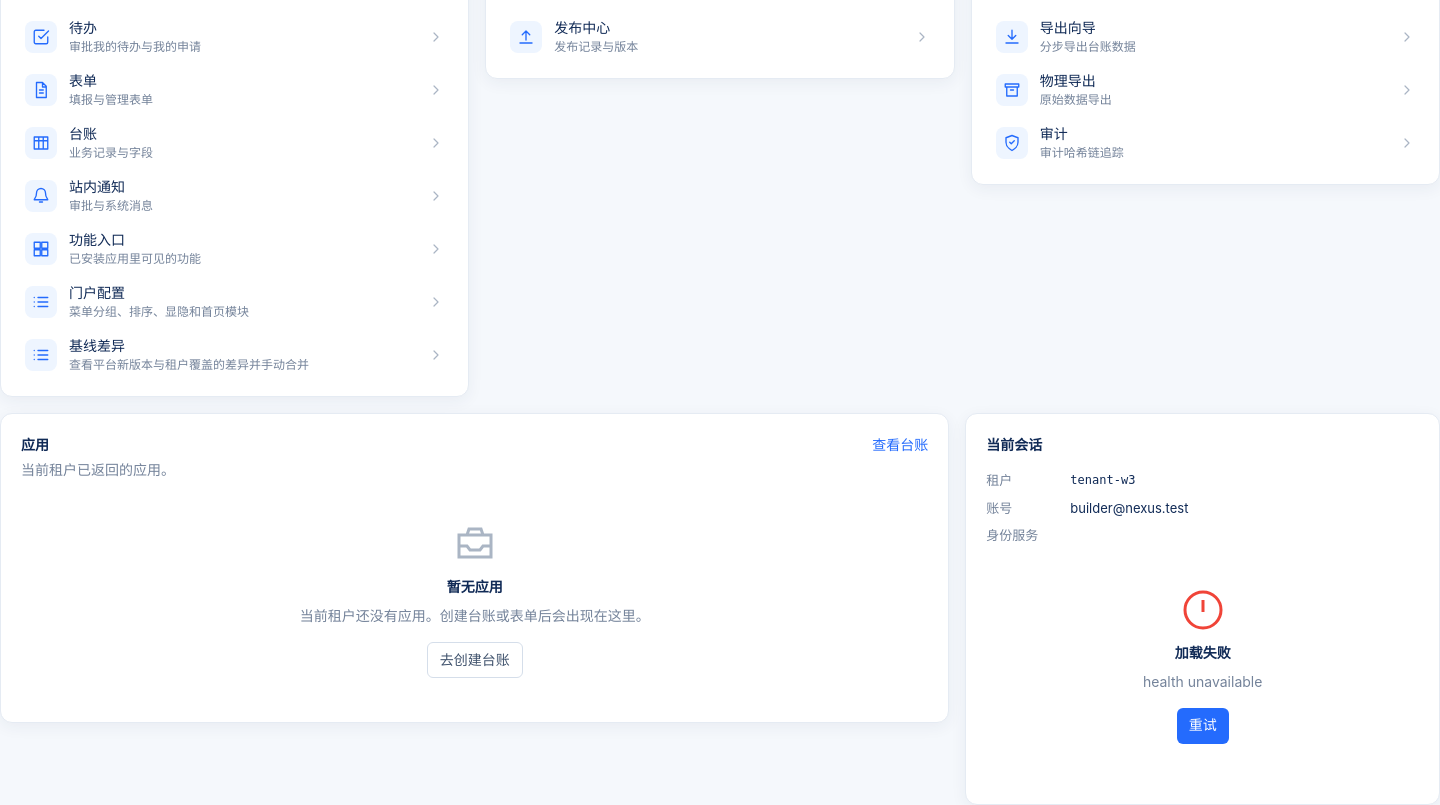
W3 Studio home › offers a retry when the health probe fails
(page scrolled)
Click the button "重试" at coordinates (1203, 726), box [1177, 708, 1229, 744]
(page scrolled)
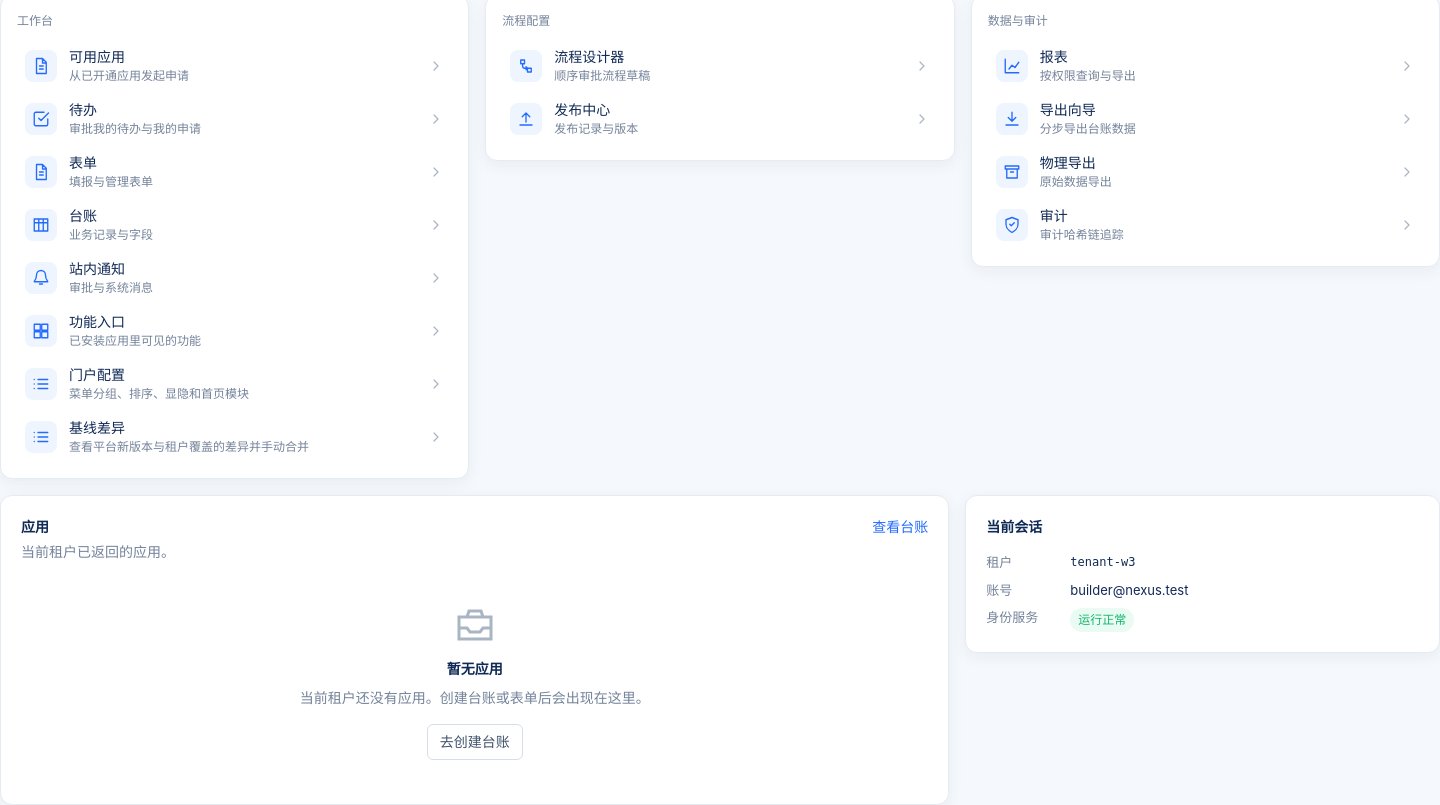
expect the text with test id "studio-health" reads "运行正常": met, box [1078, 612, 1126, 627]
